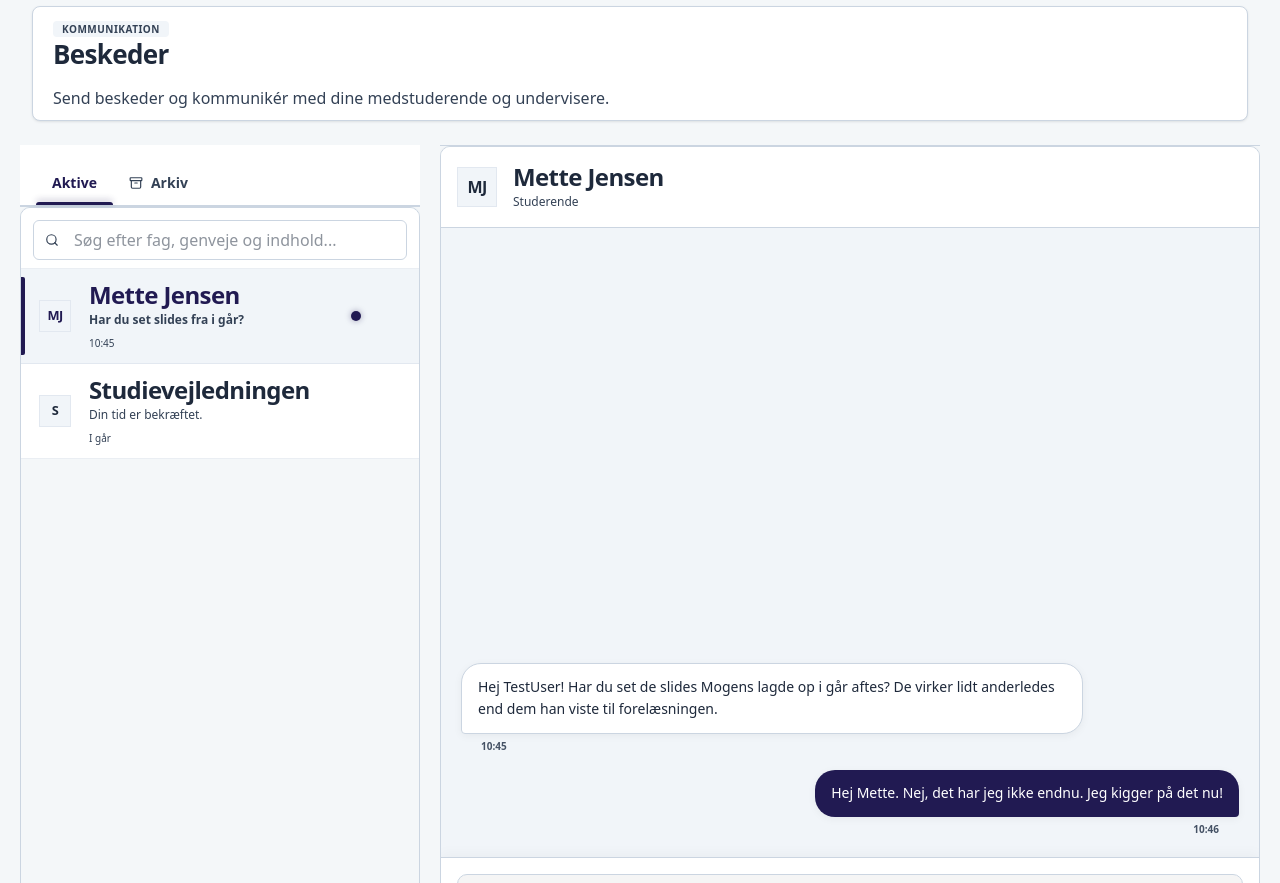
Scenario: Messages Page › selects a different conversation
Click the heading "Studievejledningen": (199, 389) [89,373,310,406]
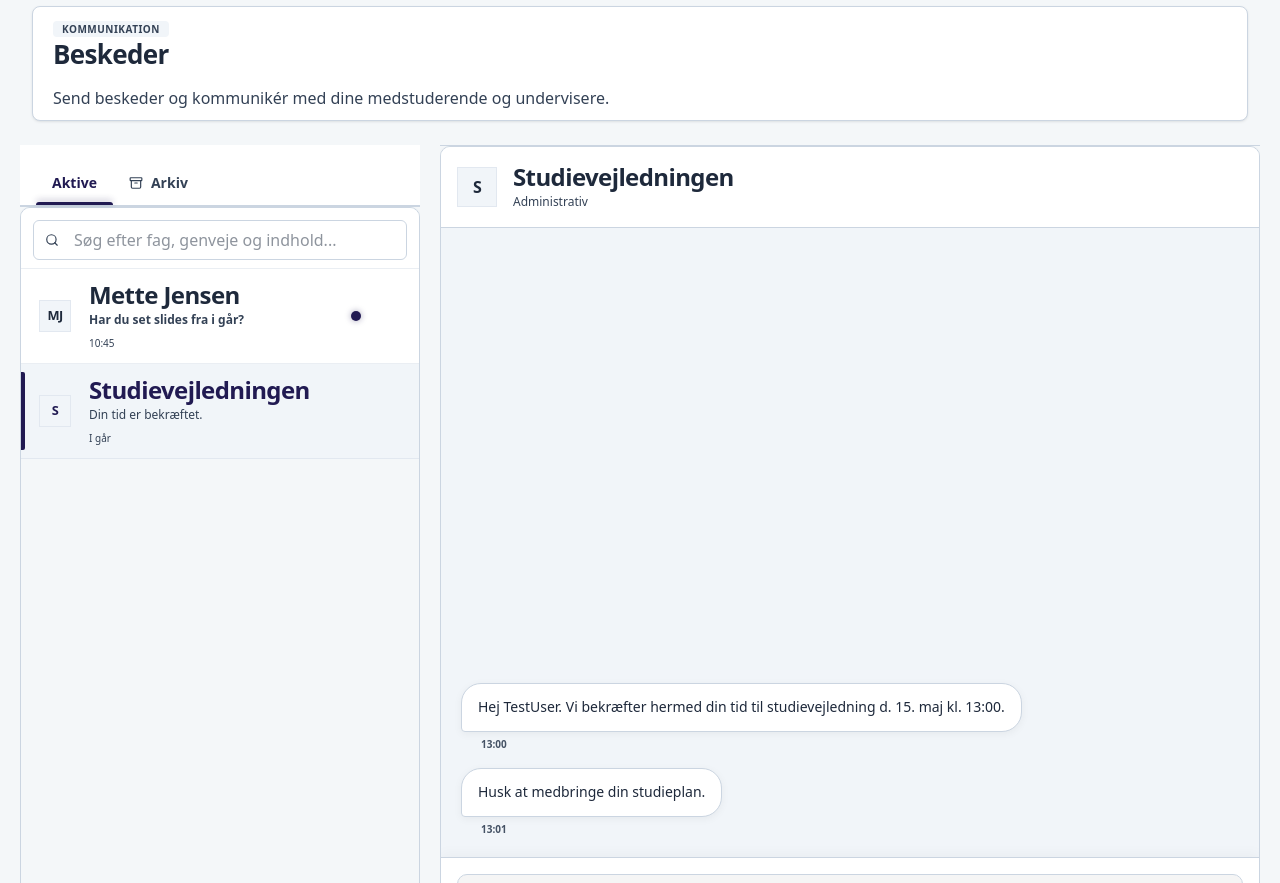
Expected: the text "Hej TestUser. Vi bekræfter hermed din tid til studievejledning d. 15. maj kl. 13:00." is shown, [478,697,1005,716]
